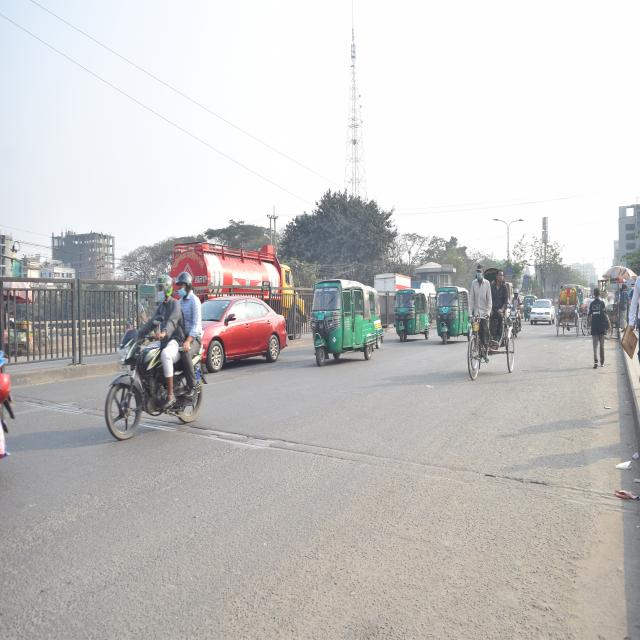car: (198, 289, 292, 377), (530, 296, 556, 330)
motorbike: (101, 317, 211, 451), (506, 294, 526, 342)
